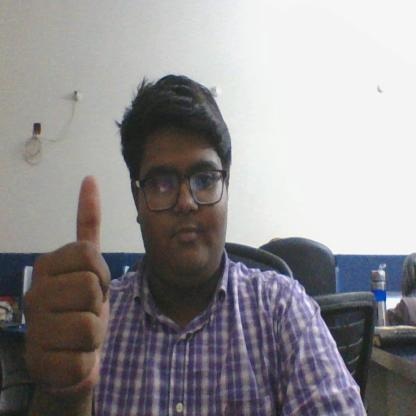thumbs-up: (20, 169, 119, 390)
